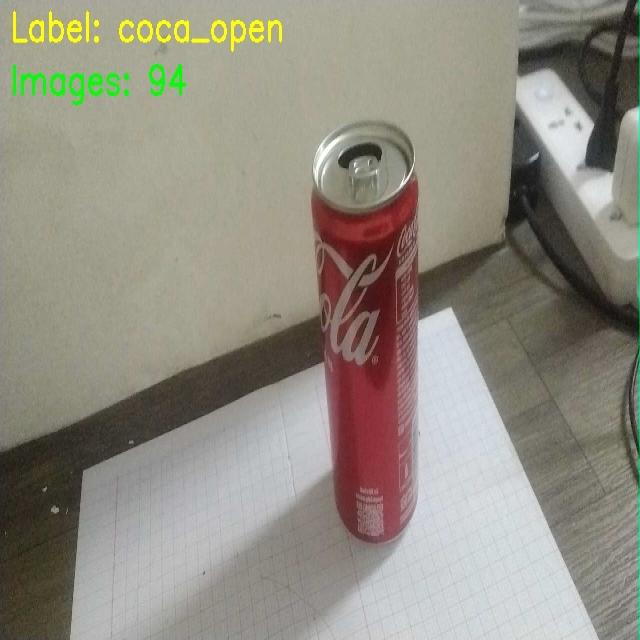Coca_open: (299, 115, 446, 559)
